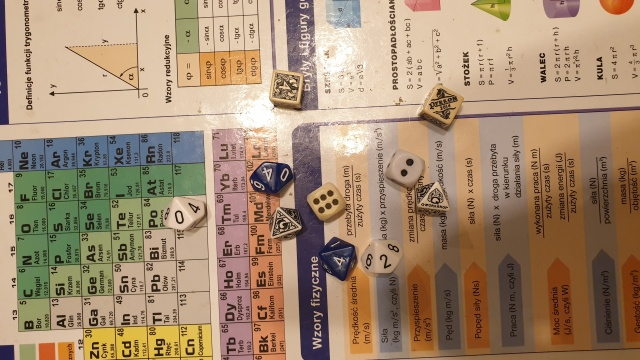d10-10: (161, 194, 207, 233)
d10-2: (357, 236, 404, 279)
d10-4: (315, 234, 358, 283), (244, 160, 298, 197)
d6-2: (384, 147, 425, 191)
d6-6: (310, 182, 345, 223)
d6p-1: (416, 81, 464, 131)
d6p-4: (266, 67, 306, 109)
d8p-2: (262, 205, 306, 246)
d8p-8: (412, 179, 451, 219)
